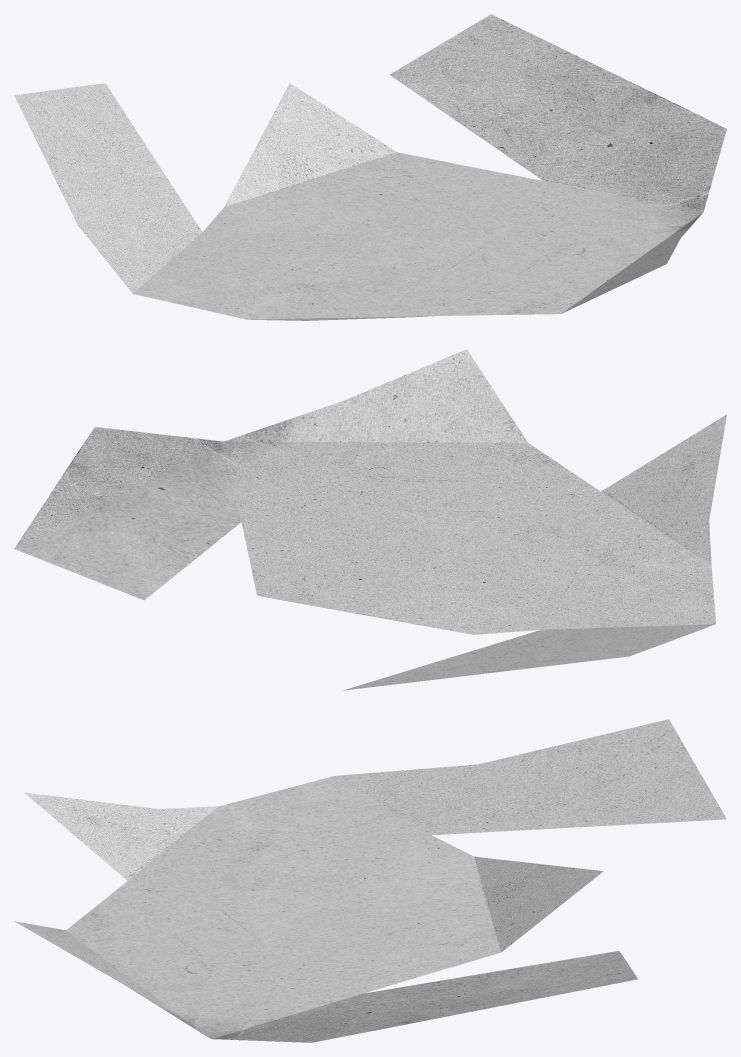
The model's file is paper.gltf.
3 renders of one model, top to bottom at view 1: azimuth 30°, elevation 25°; view 2: azimuth 150°, elevation 25°; view 3: azimuth 270°, elevation 25°, orthographic. The views are drawn at different scales.
Parts seen in each view (by area): view 1: Paper_1; view 2: Paper_1; view 3: Paper_1.
Boxes of the visible parts, x1,y1,x2,y2 form: Paper_1: (14, 14, 726, 320); Paper_1: (14, 349, 726, 690); Paper_1: (15, 719, 726, 1042).
Bounding box in the file's own units: 2.09 × 0.2503 × 2.1.
1 material, 1 textured.
